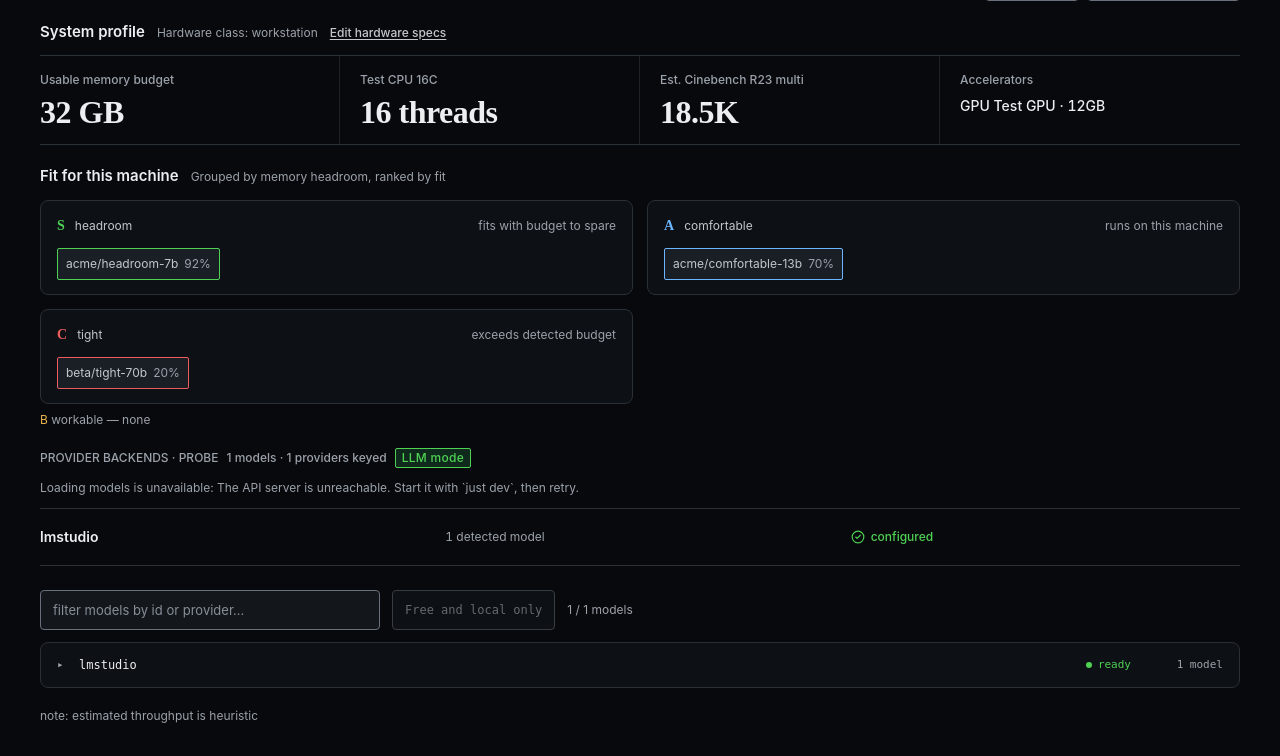
Test: ModelFinderPage › disables LM Studio load while the API is down and says why
The width and height of the screenshot is (1280, 756).
(page scrolled)
Click the button "▸ lmstudio ready 1 model" at (108, 664), box [41, 642, 1239, 686]
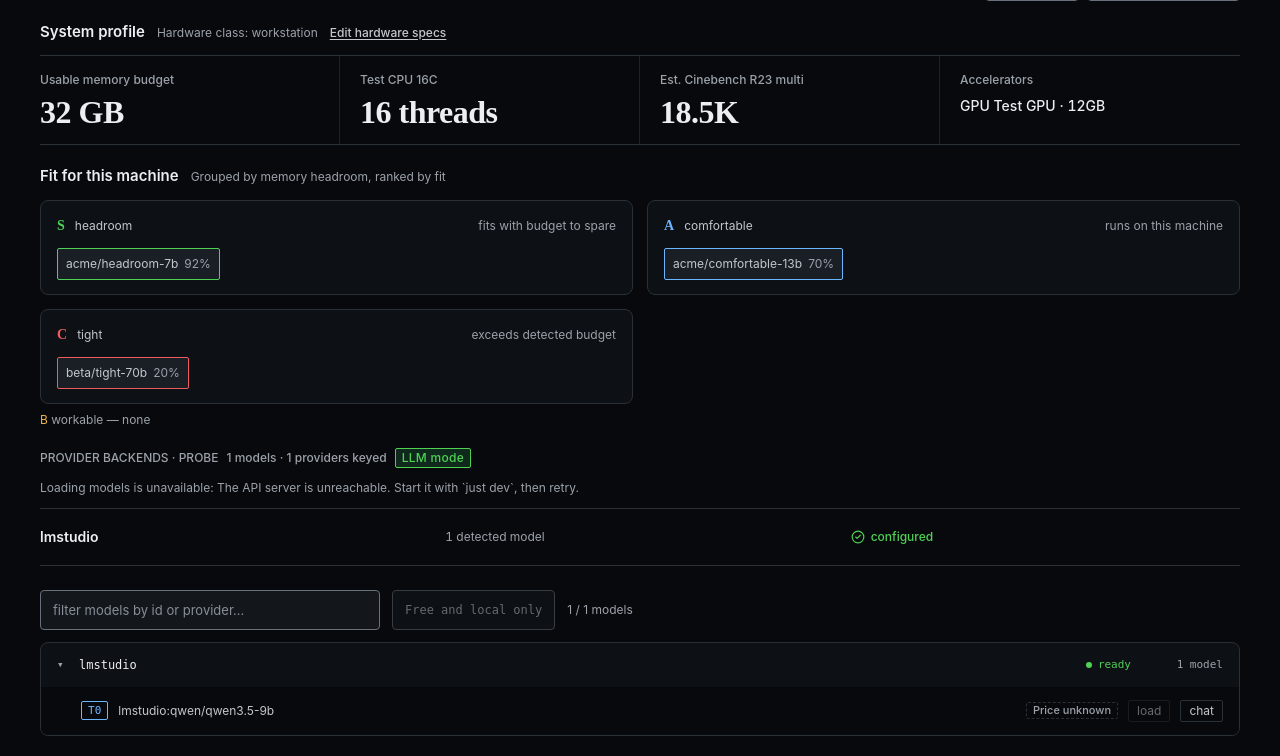
Check: the button with aria-label "Load lmstudio:qwen/qwen3.5-9b in LM Studio" is disabled, box [1128, 700, 1170, 722]
Check: the button with test id "open-in-playground-lmstudio:qwen/qwen3.5-9b" is enabled, box [1180, 700, 1223, 722]
